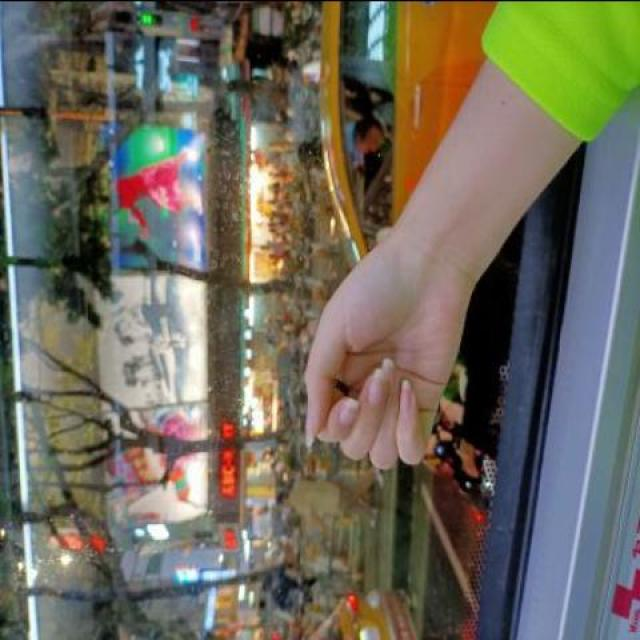Closed Hand: (292, 228, 492, 468)
